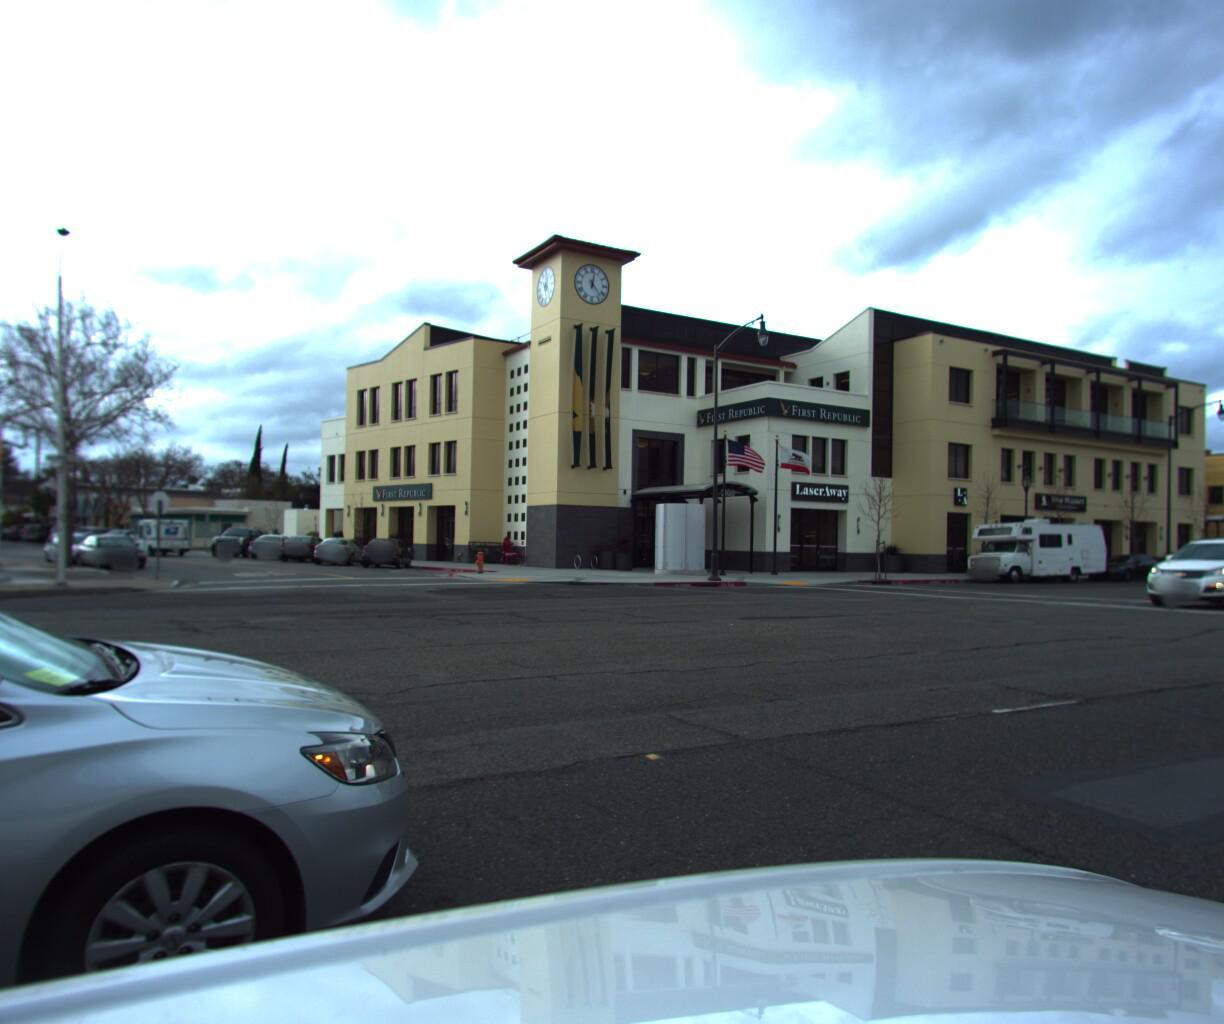car: (1133, 532, 1224, 605), (72, 531, 162, 571), (39, 529, 115, 564), (1081, 546, 1168, 577), (310, 531, 374, 568), (358, 532, 417, 571), (276, 530, 339, 564), (211, 525, 276, 558), (244, 529, 308, 561)
other_vehicle: (951, 508, 1113, 581), (132, 515, 201, 555)
